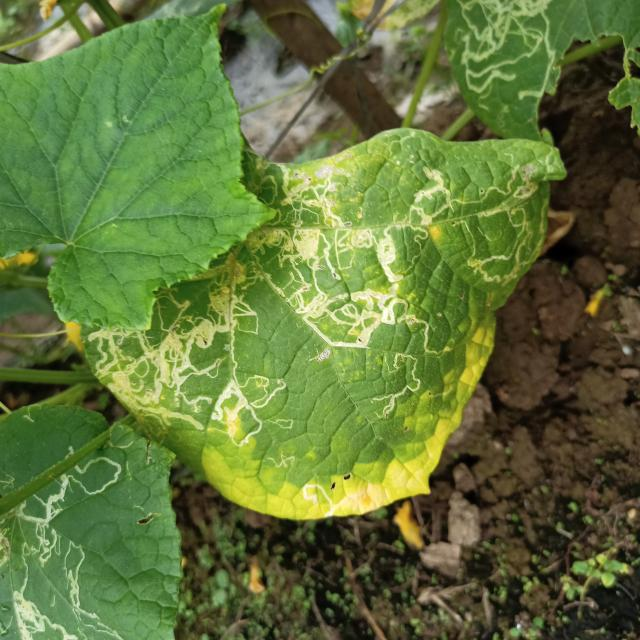disease_cucumber: (202, 415, 448, 520), (407, 317, 499, 437)
